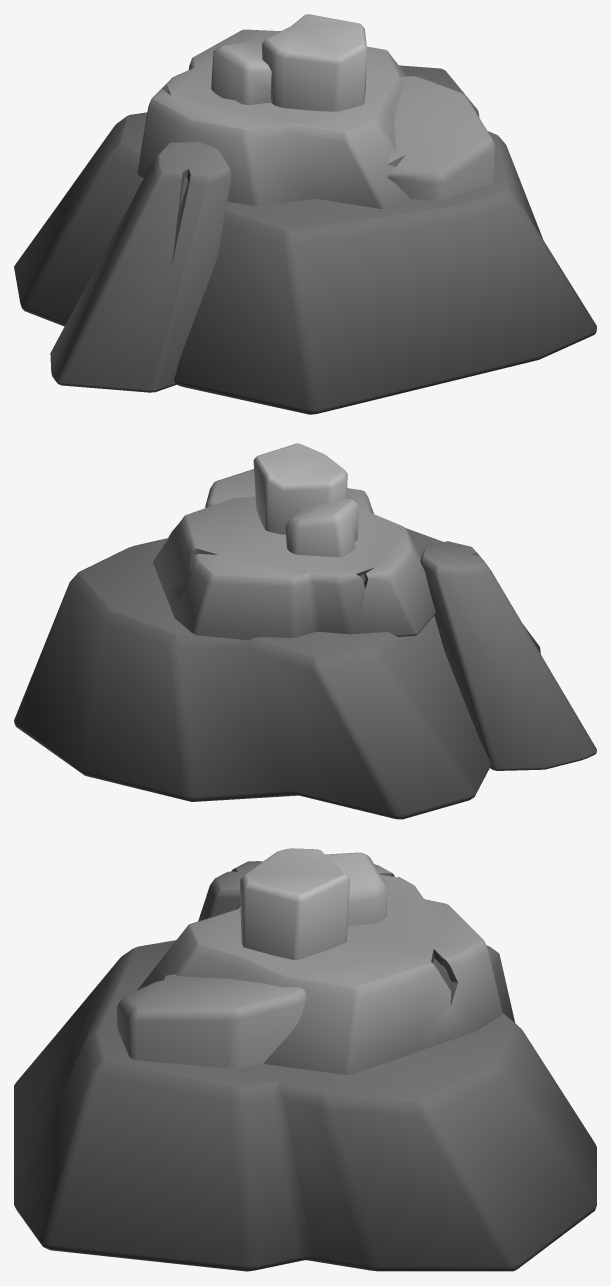
File: Rock_Cluster_02.fbx
The picture shows the model from 3 angles, top to bottom: view 1: azimuth 30°, elevation 25°; view 2: azimuth 150°, elevation 25°; view 3: azimuth 270°, elevation 25°; orthographic projection. The views are drawn at different scales.
Parts seen in each view (by area): view 1: Rock_Cluster_02; view 2: Rock_Cluster_02; view 3: Rock_Cluster_02.
Boxes of the visible parts, x1,y1,x2,y2 form: Rock_Cluster_02: [14, 14, 596, 414]; Rock_Cluster_02: [14, 443, 596, 819]; Rock_Cluster_02: [14, 848, 596, 1271].
Size of the model in its own units: 1037 by 521 by 941.
